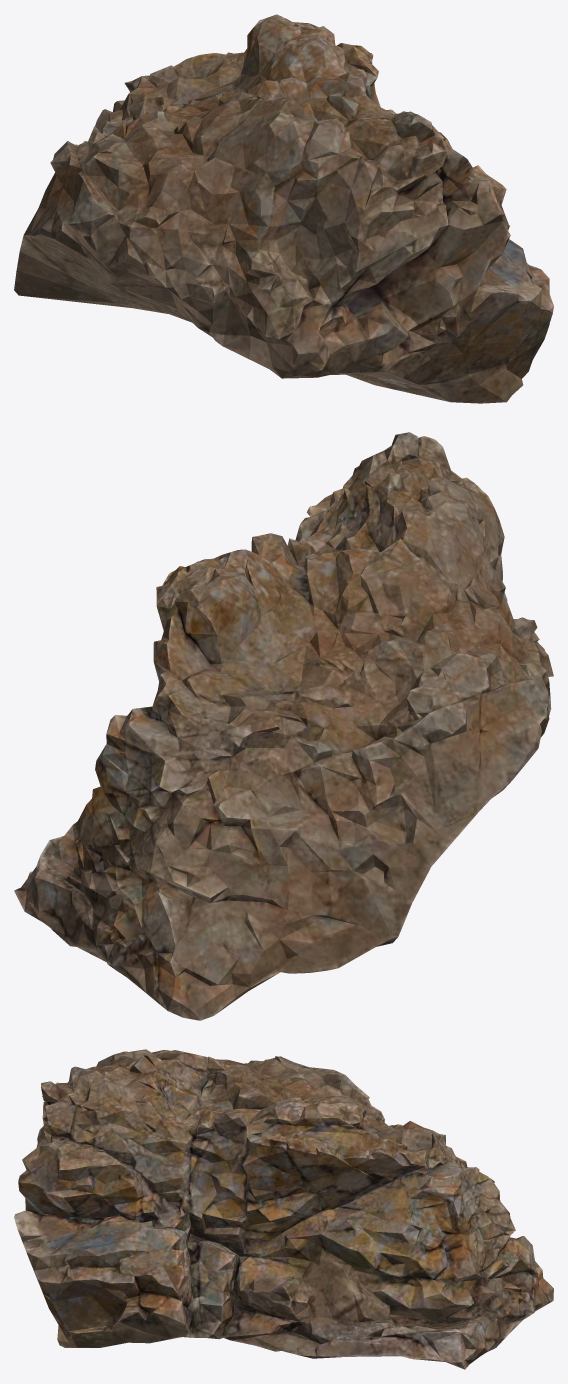
File: boulder.glb
3 views of the same model, one above another, from view 1: azimuth 30°, elevation 25°; view 2: azimuth 150°, elevation 25°; view 3: azimuth 270°, elevation 25° (orthographic). The views are drawn at different scales.
Visible parts, largest first — view 1: boulder_01; view 2: boulder_01; view 3: boulder_01.
Part boxes in pixels (<box>): boulder_01: <box>14,14,553,403</box>; boulder_01: <box>14,432,553,1020</box>; boulder_01: <box>14,1049,553,1369</box>.
Size of the model in its own units: 1.27 by 1 by 1.83.
1 material, 1 textured.
